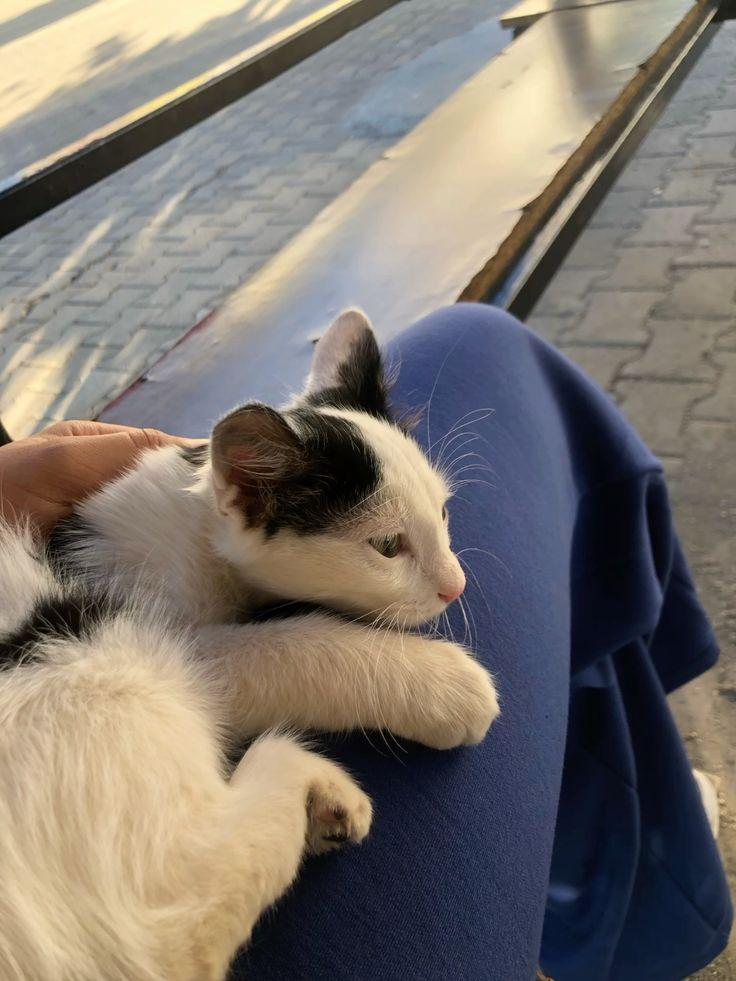kedo: (0, 310, 499, 981)
